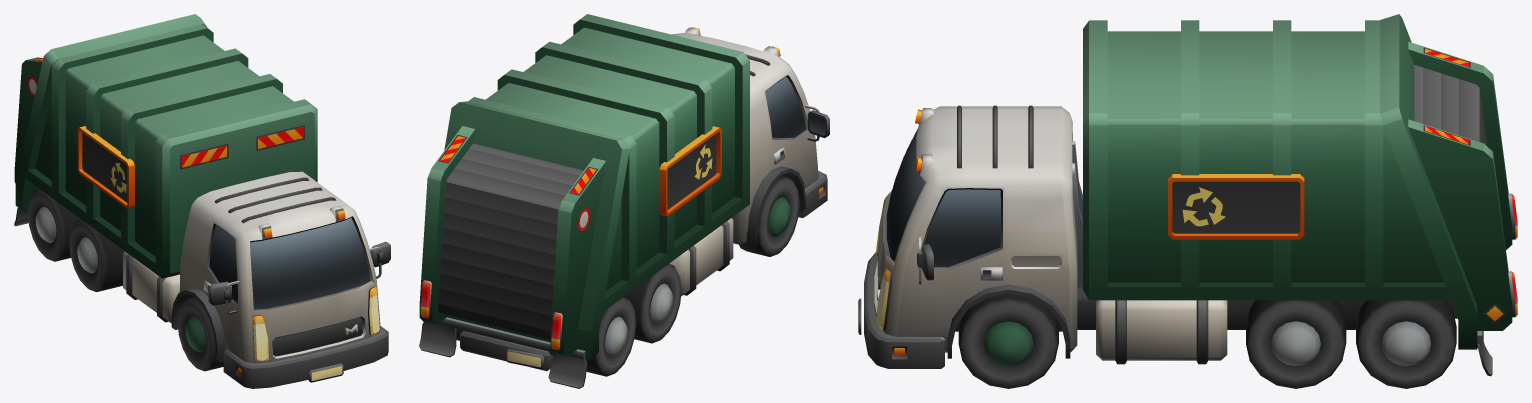
Rendered from Car_4E.fbx.
The picture shows the model from 3 angles, left to right: view 1: azimuth 30°, elevation 25°; view 2: azimuth 150°, elevation 25°; view 3: azimuth 270°, elevation 25°; orthographic projection. The views are drawn at different scales.
Visible parts, largest first — view 1: Car_4E, Wheel_4E_M.R, Wheel_4E_R.R, Wheel_4E_F.R; view 2: Car_4E, Wheel_4E_M.R, Wheel_4E_F.R, Wheel_4E_R.R; view 3: Car_4E, Wheel_4E_M.L, Wheel_4E_R.L, Wheel_4E_F.L.
Part boxes in pixels (x1,y1,x2,y2): Car_4E: [14, 14, 390, 388]; Wheel_4E_M.R: [69, 219, 124, 291]; Wheel_4E_R.R: [27, 188, 80, 261]; Wheel_4E_F.R: [177, 296, 223, 371]; Car_4E: [419, 14, 829, 388]; Wheel_4E_M.R: [624, 263, 681, 343]; Wheel_4E_F.R: [739, 175, 799, 256]; Wheel_4E_R.R: [586, 297, 636, 376]; Car_4E: [858, 14, 1517, 376]; Wheel_4E_M.L: [1246, 300, 1346, 388]; Wheel_4E_R.L: [1356, 300, 1456, 388]; Wheel_4E_F.L: [958, 294, 1058, 388].
Bounding box in the file's own units: 301 × 337 × 717.
